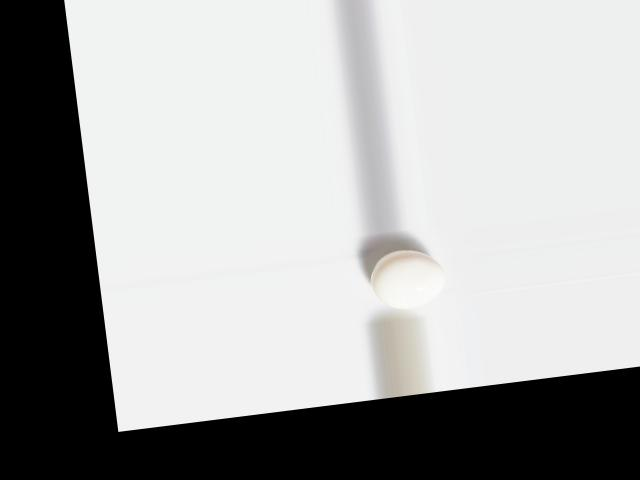egg: (366, 245, 447, 312)
